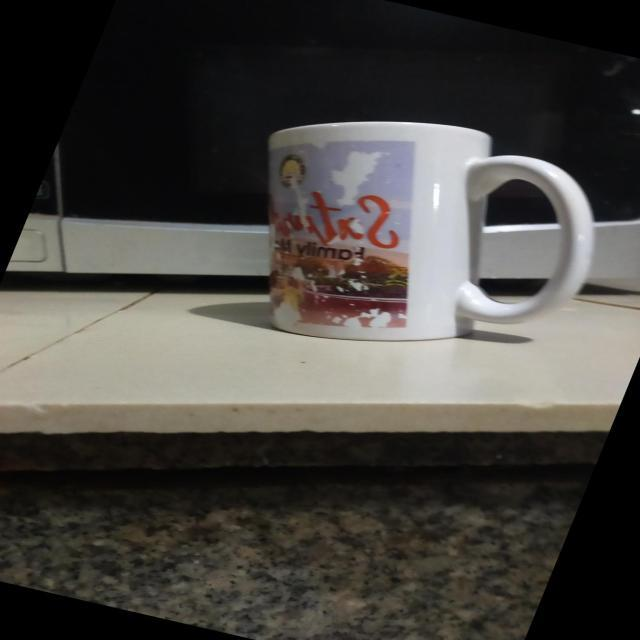taza: (254, 121, 596, 341)
